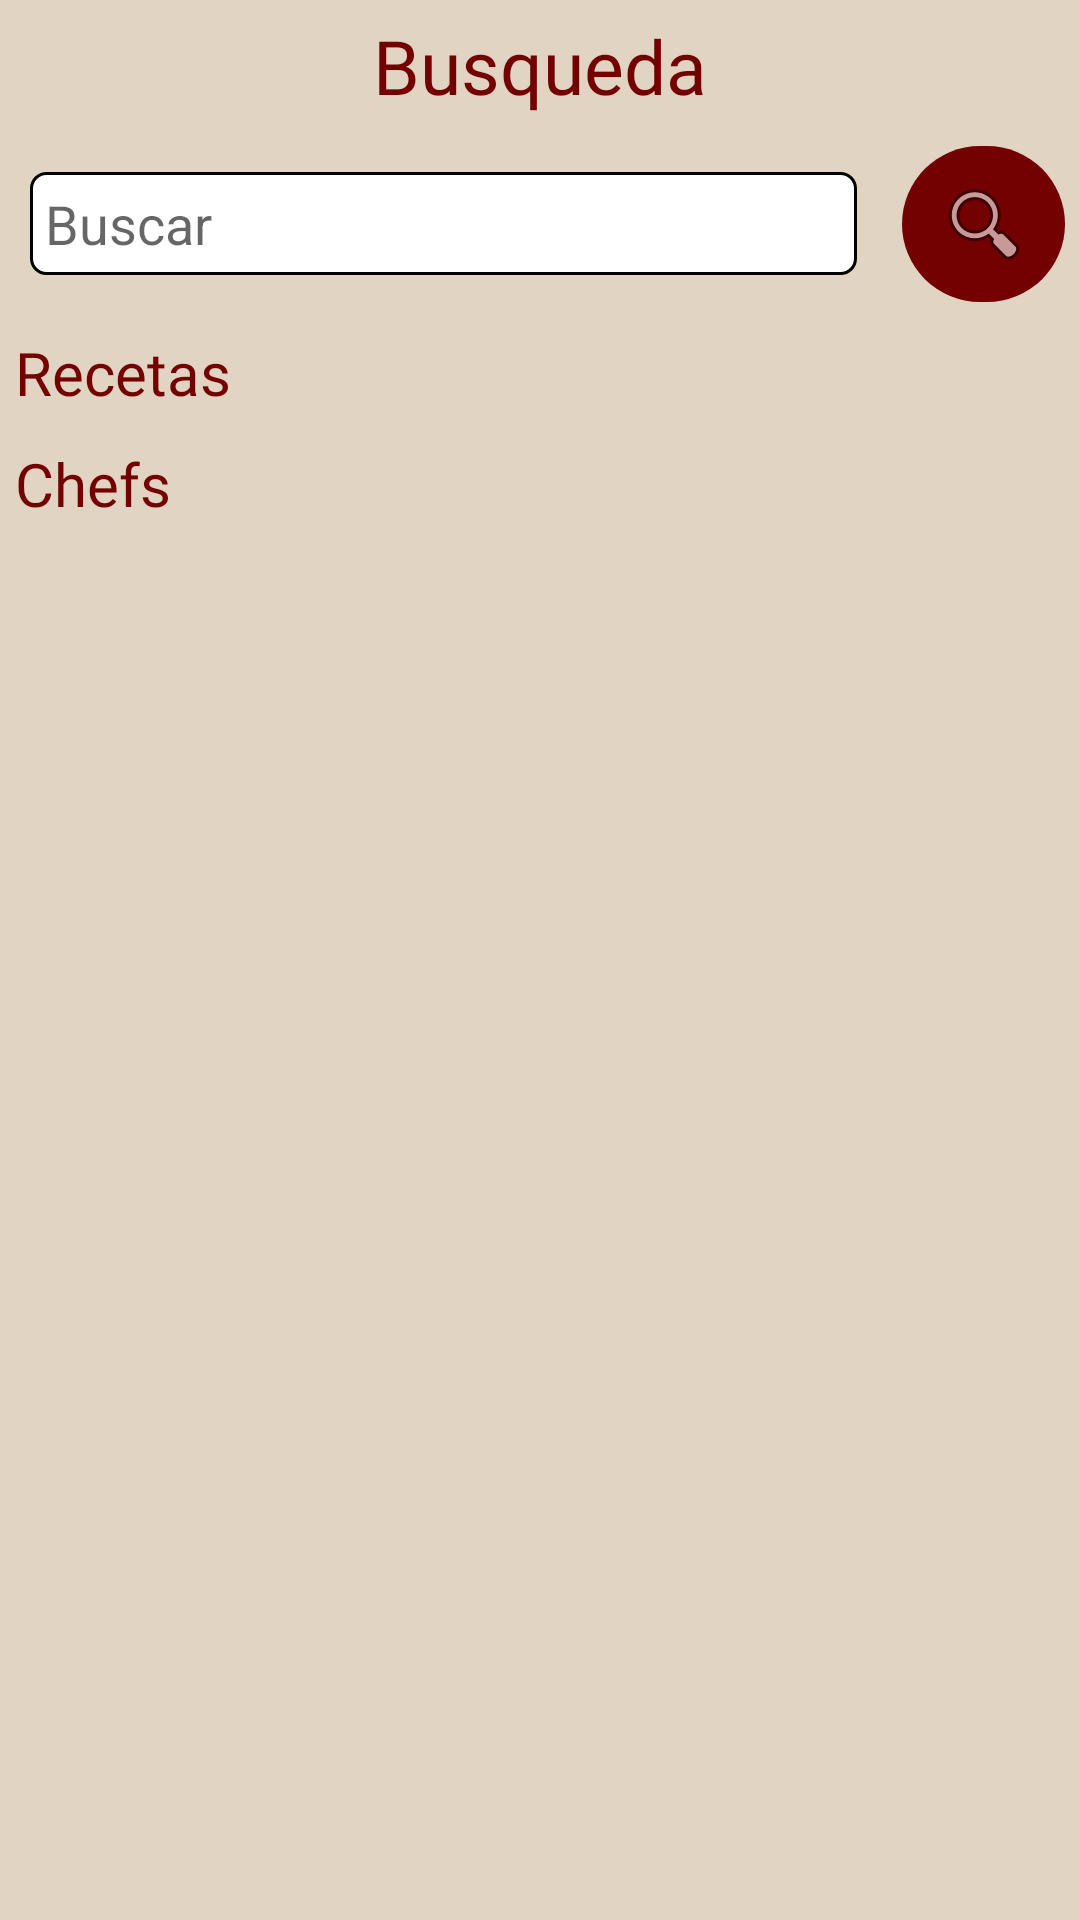

Where icons sit on this 1080×1920 app screen, as detection(x1, y1, x2, y2):
search: detection(902, 146, 1065, 302)
